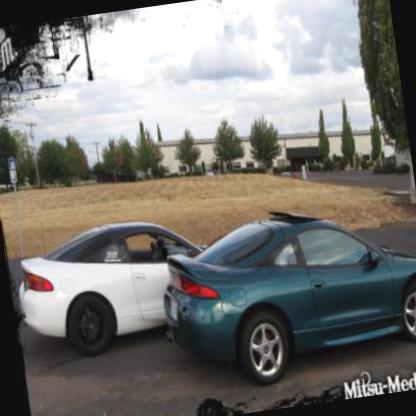car: (131, 193, 415, 406), (11, 208, 220, 366), (204, 168, 212, 174)
